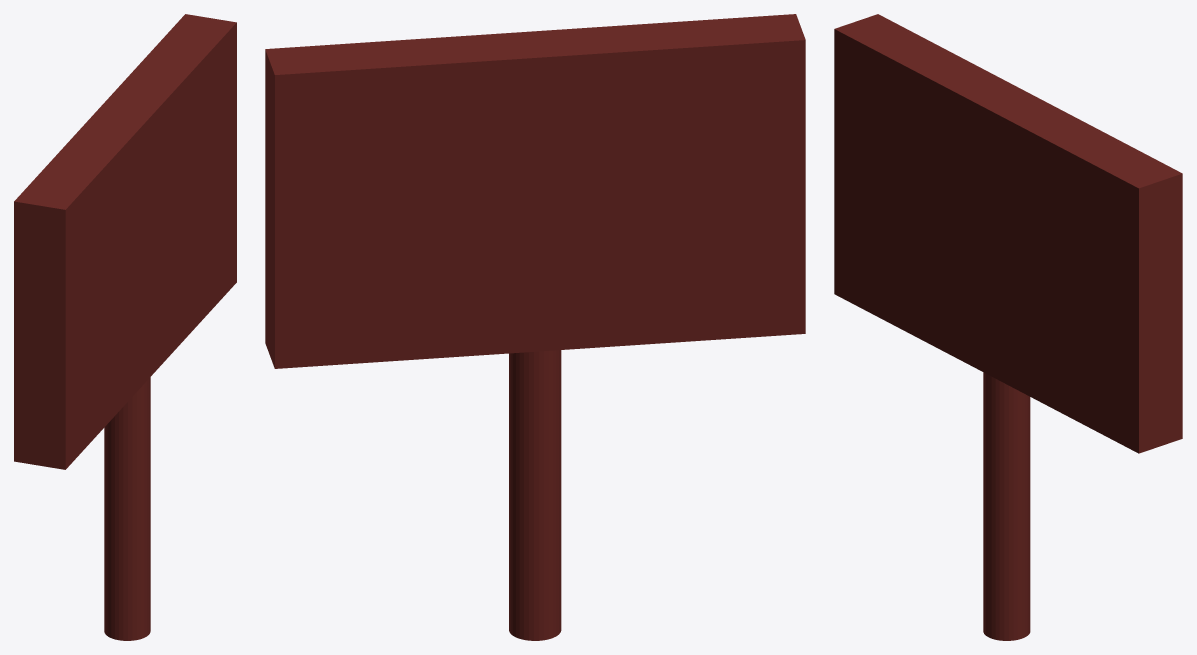
Rendered from sign.glb.
The picture shows the model from 3 angles, left to right: view 1: azimuth 30°, elevation 25°; view 2: azimuth 150°, elevation 25°; view 3: azimuth 270°, elevation 25°; orthographic projection. The views are drawn at different scales.
Parts seen in each view (by area): view 1: Cube.006, Cylinder.007; view 2: Cube.006, Cylinder.007; view 3: Cube.006, Cylinder.007.
Part boxes in pixels (bbox=[...]): Cube.006: bbox=[14, 14, 236, 469]; Cylinder.007: bbox=[104, 377, 150, 640]; Cube.006: bbox=[265, 14, 805, 368]; Cylinder.007: bbox=[509, 350, 561, 640]; Cube.006: bbox=[834, 14, 1182, 453]; Cylinder.007: bbox=[983, 372, 1030, 640].
Size of the model in its own units: 9.97 by 14.1 by 8.41.
